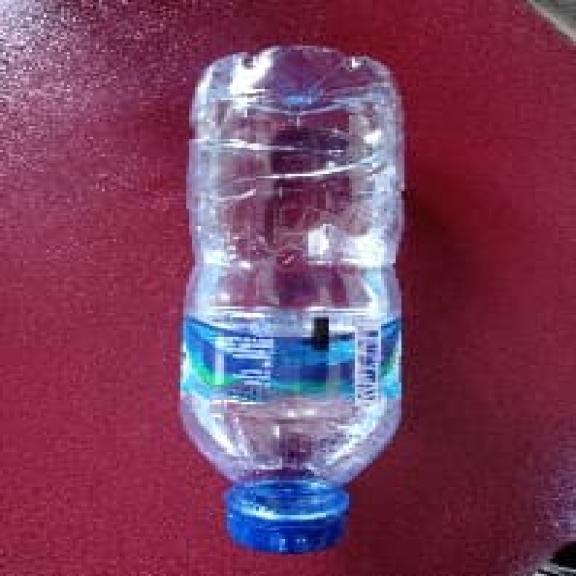Plastik: (182, 46, 402, 551)
